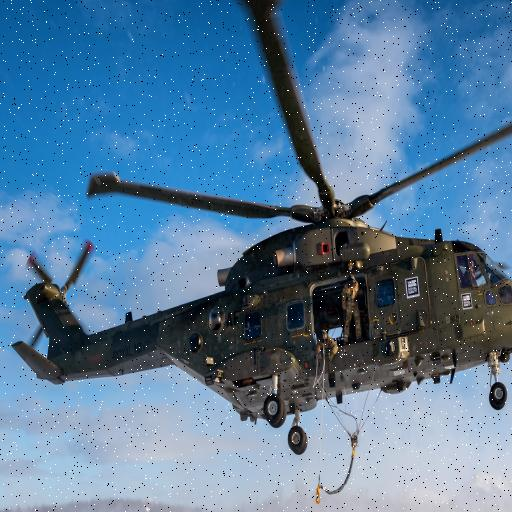helicopter: (1, 1, 512, 503)
